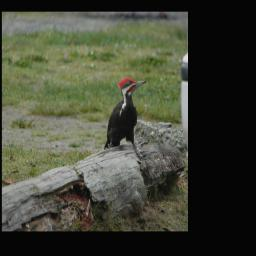Woodpecker: (103, 73, 147, 154)
